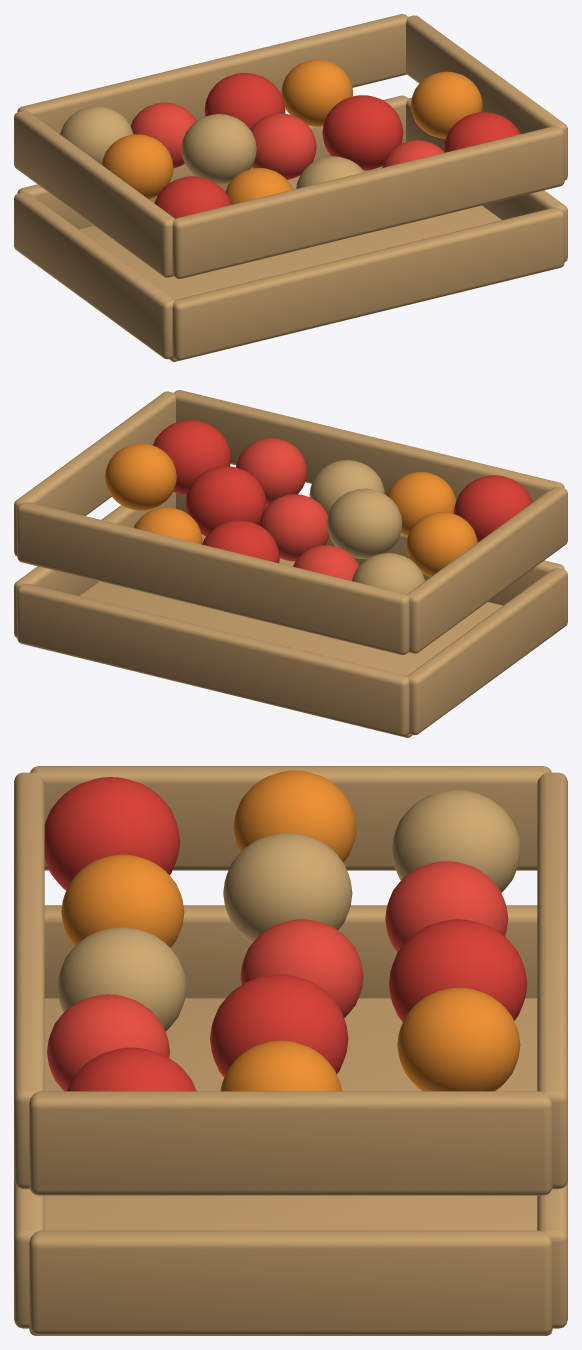
File: prop_vegetable_crate.fbx
3 renders of one model, top to bottom at view 1: azimuth 30°, elevation 25°; view 2: azimuth 150°, elevation 25°; view 3: azimuth 270°, elevation 25°, orthographic. The views are drawn at different scales.
Visible parts, largest first — view 1: prop_vegetable_crate; view 2: prop_vegetable_crate; view 3: prop_vegetable_crate.
Part boxes in pixels (bbox=[...]): prop_vegetable_crate: bbox=[14, 14, 567, 361]; prop_vegetable_crate: bbox=[14, 390, 567, 737]; prop_vegetable_crate: bbox=[14, 766, 567, 1335].
Size of the model in its own units: 0.52 by 0.1974 by 0.36.
